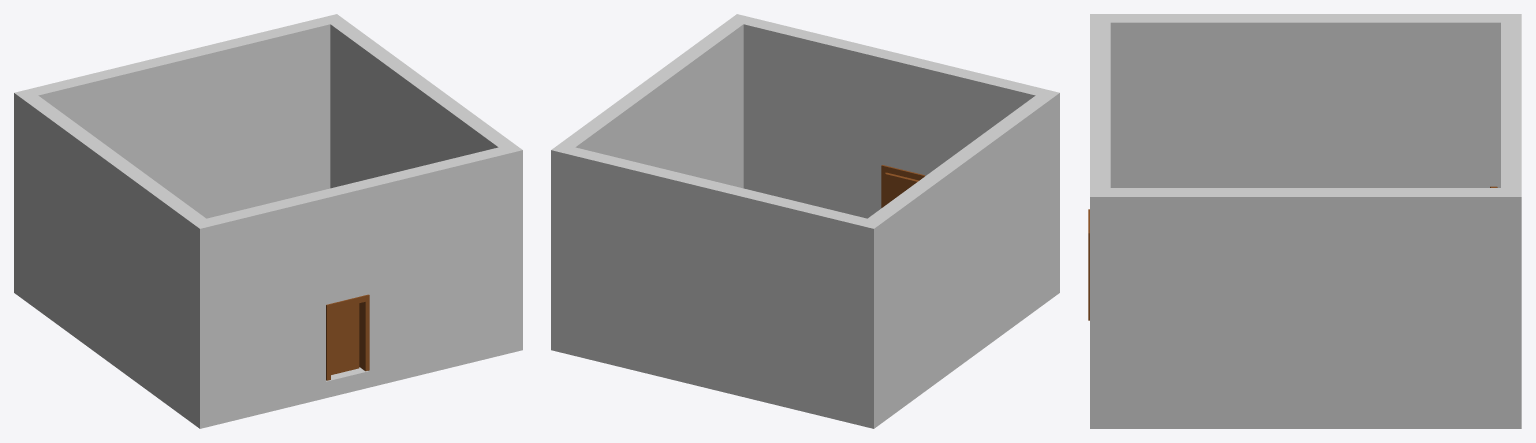
The model's file is provagiocounito.glb.
The picture shows the model from 3 angles, left to right: view 1: azimuth 30°, elevation 25°; view 2: azimuth 150°, elevation 25°; view 3: azimuth 270°, elevation 25°; orthographic projection. The views are drawn at different scales.
Visible parts, largest first — view 1: Cube, Cube.001, Cube.004, Cube.002; view 2: Cube, Cube.001, Cube.004; view 3: Cube, Cube.001.
Boxes of the visible parts, x1,y1,x2,y2 form: Cube: [14, 14, 513, 422]; Cube.001: [191, 143, 522, 428]; Cube.004: [331, 303, 359, 374]; Cube.002: [326, 294, 369, 380]; Cube: [551, 20, 1050, 428]; Cube.001: [728, 14, 1059, 298]; Cube.004: [885, 172, 918, 205]; Cube: [1109, 14, 1521, 428]; Cube.001: [1090, 14, 1110, 428].
Size of the model in its own units: 20.43 by 12.09 by 20.46.
